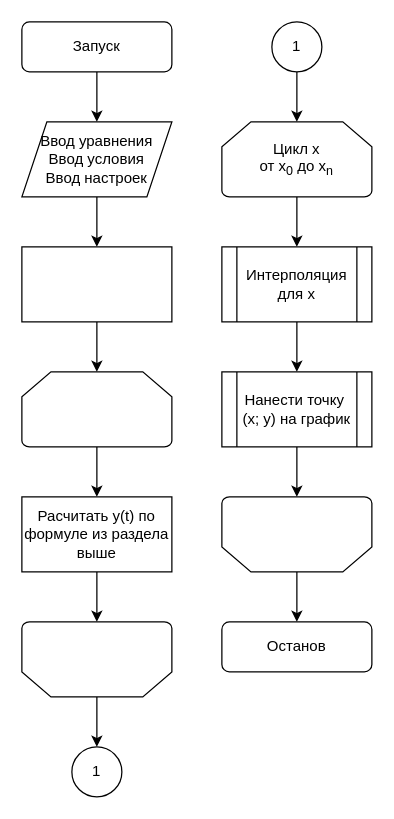
This 394x819 diagram has some shape labels left out. The box of each missing label's shape, as (x1, y1, x2, y2) in pixels:
Выше мы ввели x 0 , x n , y(x 0 ), h и f(x, y): (21, 246, 172, 322)
Увеличить t на h Цикл t: (21, 621, 172, 697)
Увеличить x на шаг Цикл x: (221, 496, 372, 572)
Цикл t от x 0 до x n: (21, 371, 172, 447)
